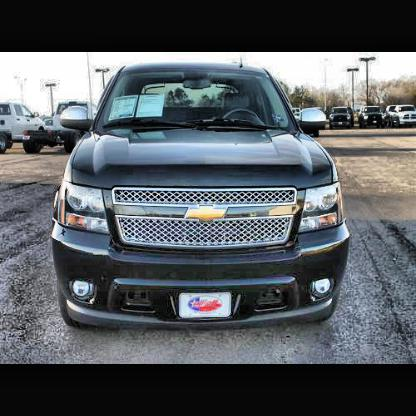Chevrolet Avalanche Crew Cab 2012: (51, 58, 353, 334)
